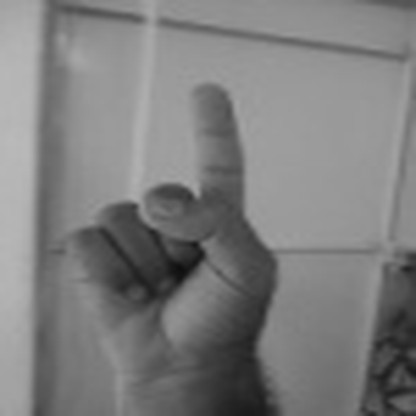d: (57, 79, 284, 375)
